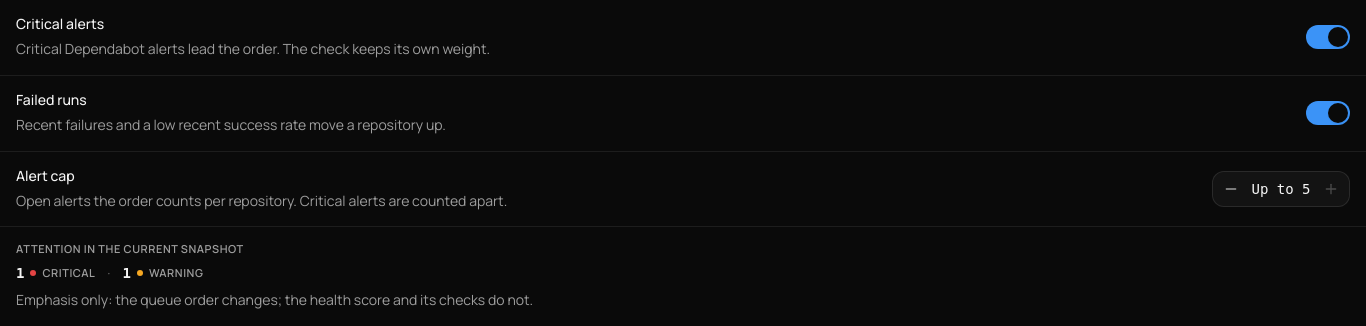
Test case: AttentionSettingsControls › toggles the critical emphasis, persists it and re-bands the preview
Click the 1st switch named "Critical alerts" at (1328,37), box 1306,15 -> 1350,59
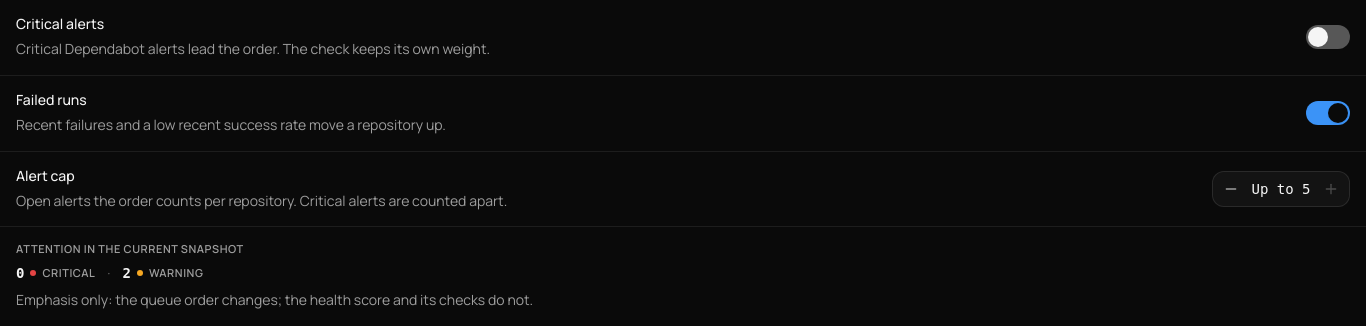
Result: the element with test id "attention-preview" reads "0 Critical · 2 Warning" at 16,263 -> 203,282
